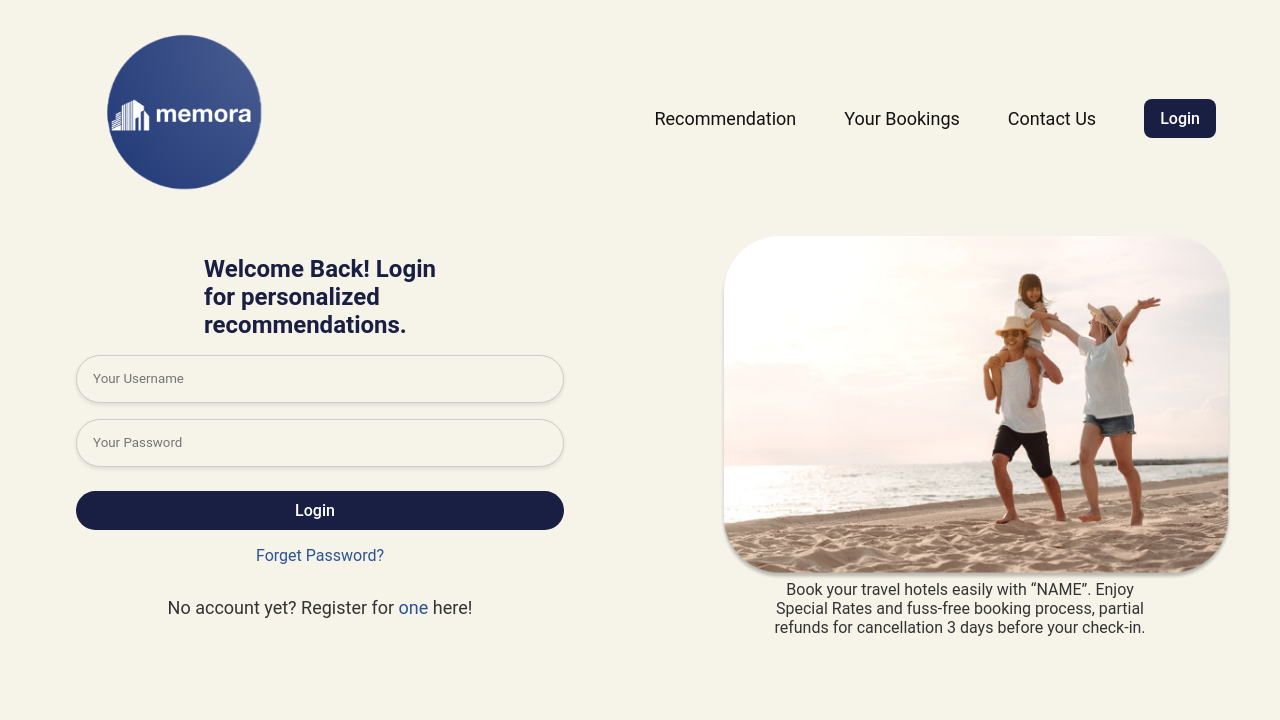
Test: LogInPage › handles login failure
In the field with placeholder "Your Username": [320, 379] box [76,355,564,403], type "testuser"
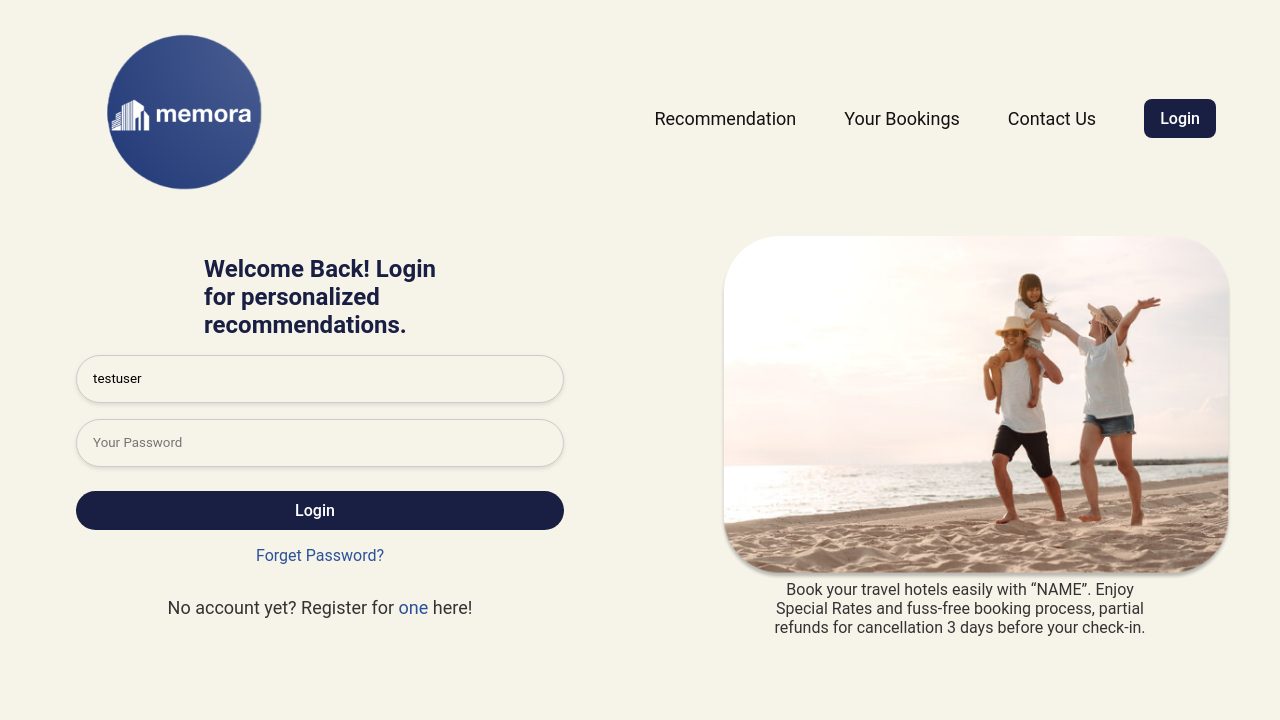
In the password field with placeholder "Your Password": [320, 443] box [76,419,564,467], type "wrongpassword"
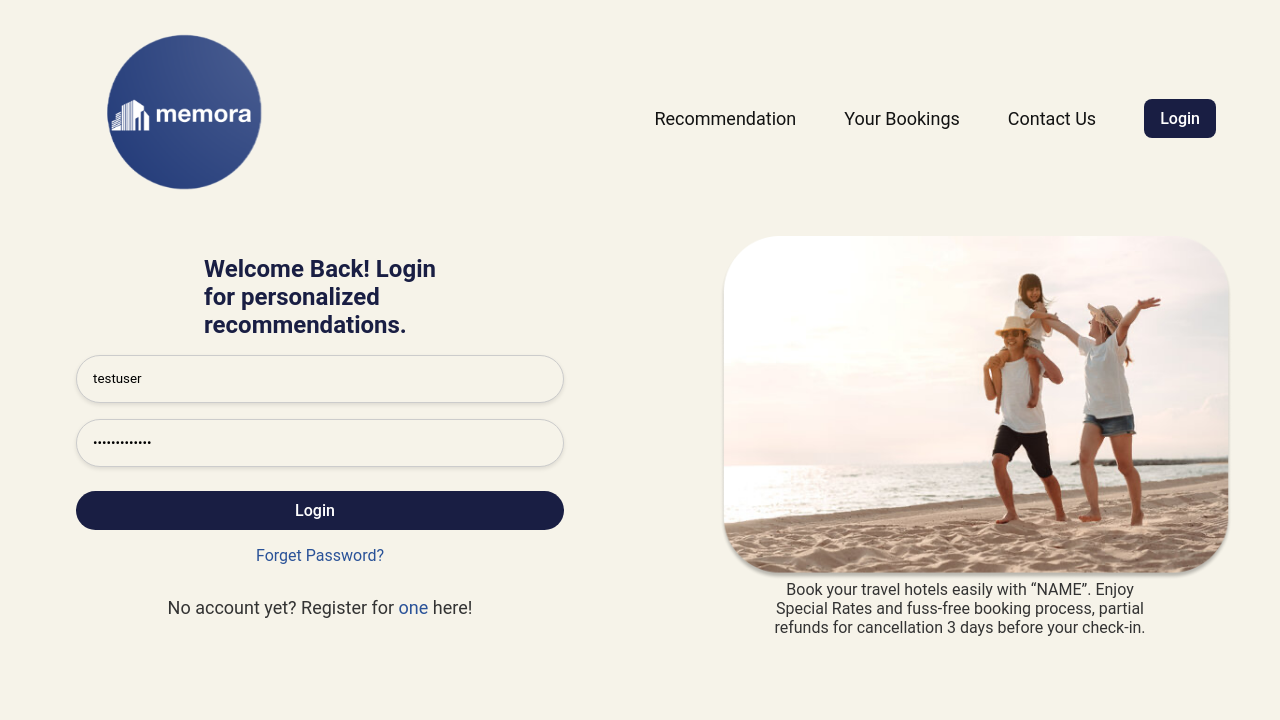
Click the button "Login" below "recommendations.": [320, 510] box [76,491,564,530]
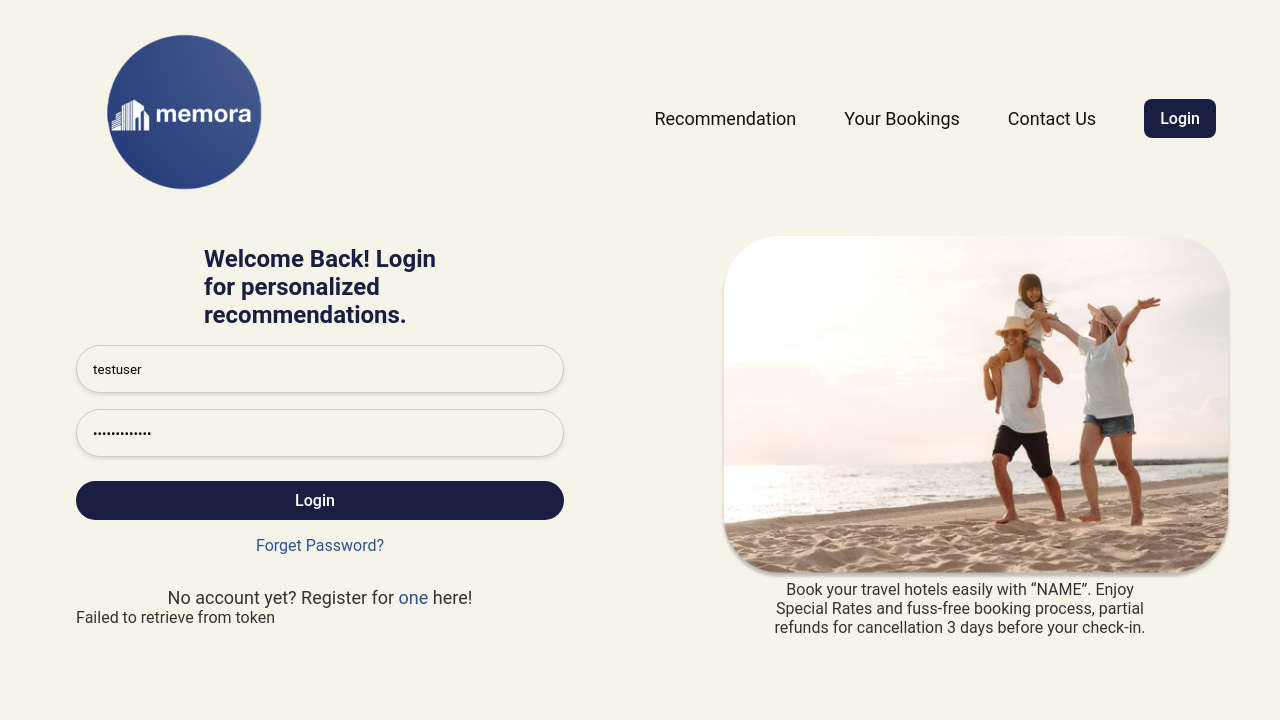
Check: the message reads "Failed to retrieve from token", box [76,608,275,627]
